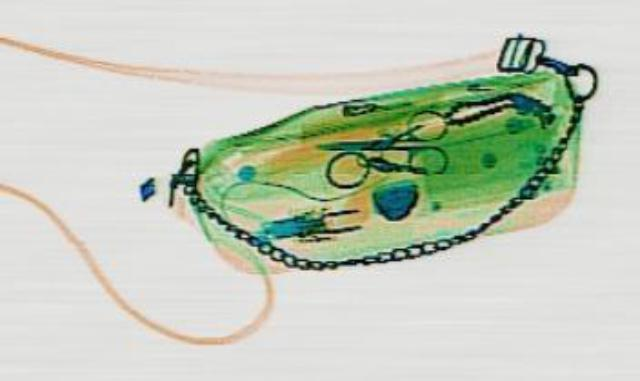Scissors: (310, 107, 448, 175)
